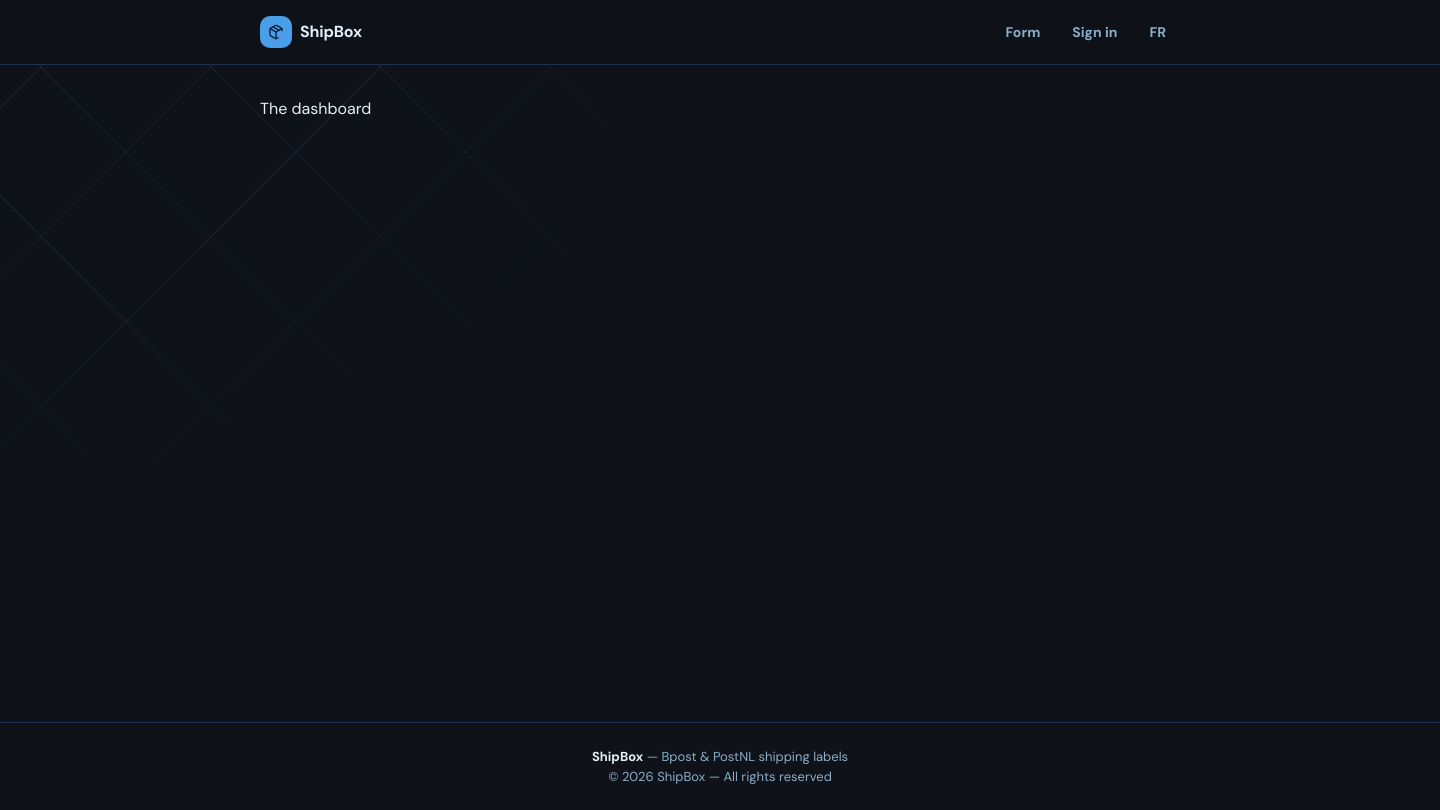
Test: what every page gets › goes home from the brand
The image size is (1440, 810).
Click the button "ShipBox".
click(311, 32)  # box [260,16,362,48]
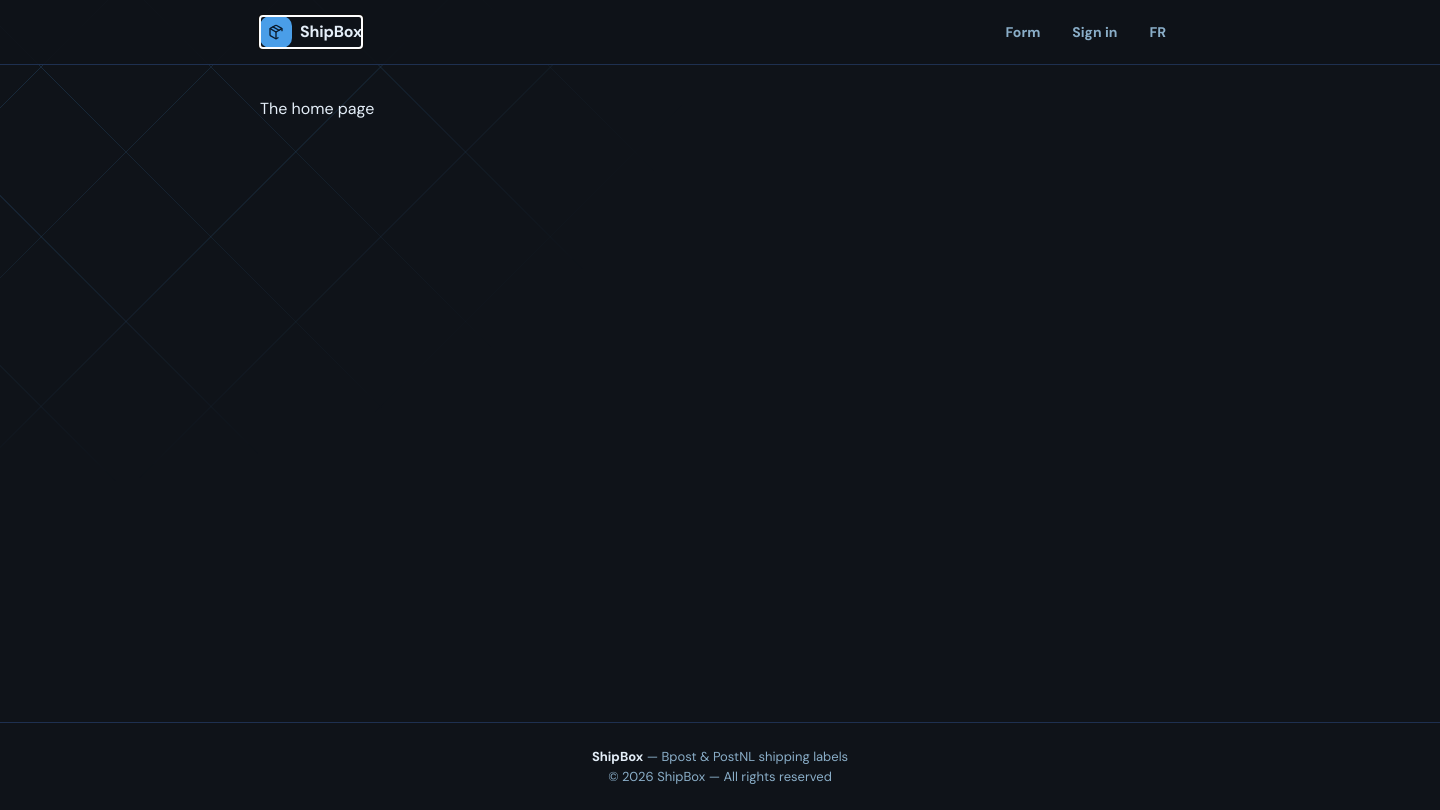
Check: the text "The home page" is shown, box [260,98,374,119]
